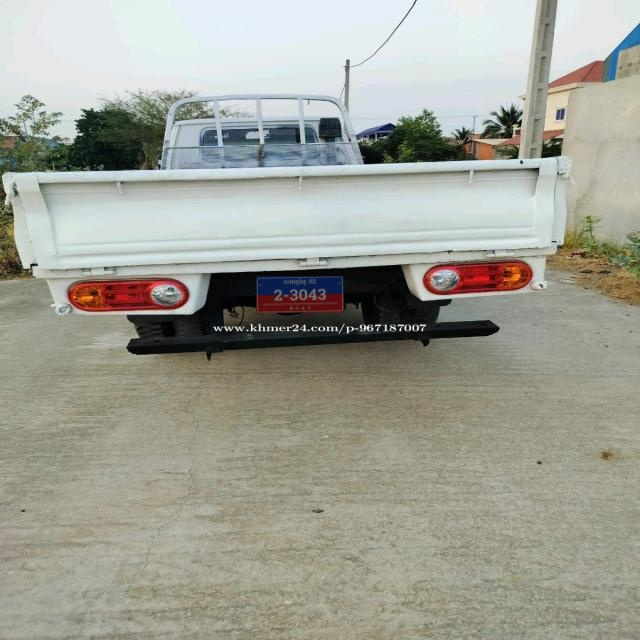Plate Number: (256, 276, 344, 314)
